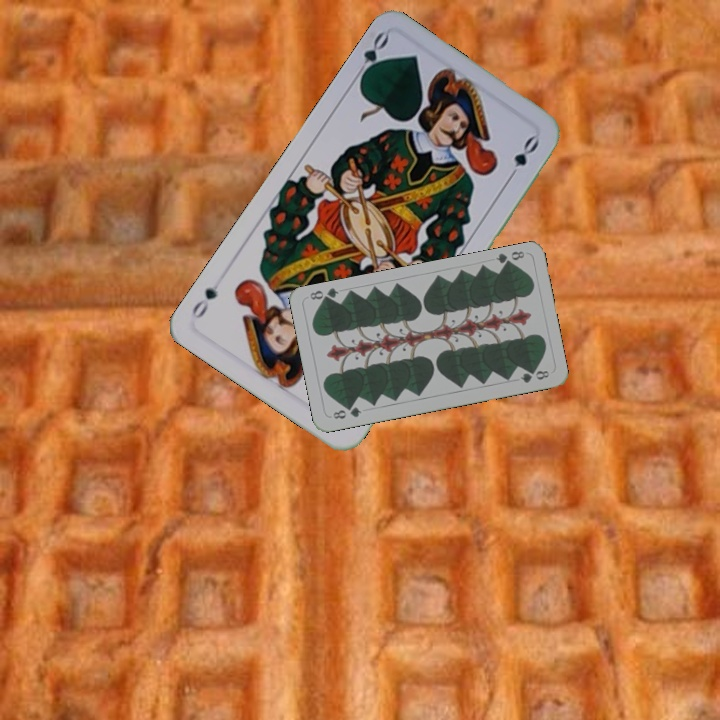G8: (492, 247, 527, 270), (329, 403, 364, 422)
GO: (350, 28, 391, 85)
